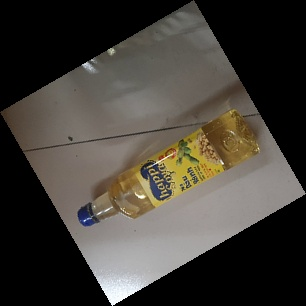Happy Soya: (76, 109, 260, 229)
